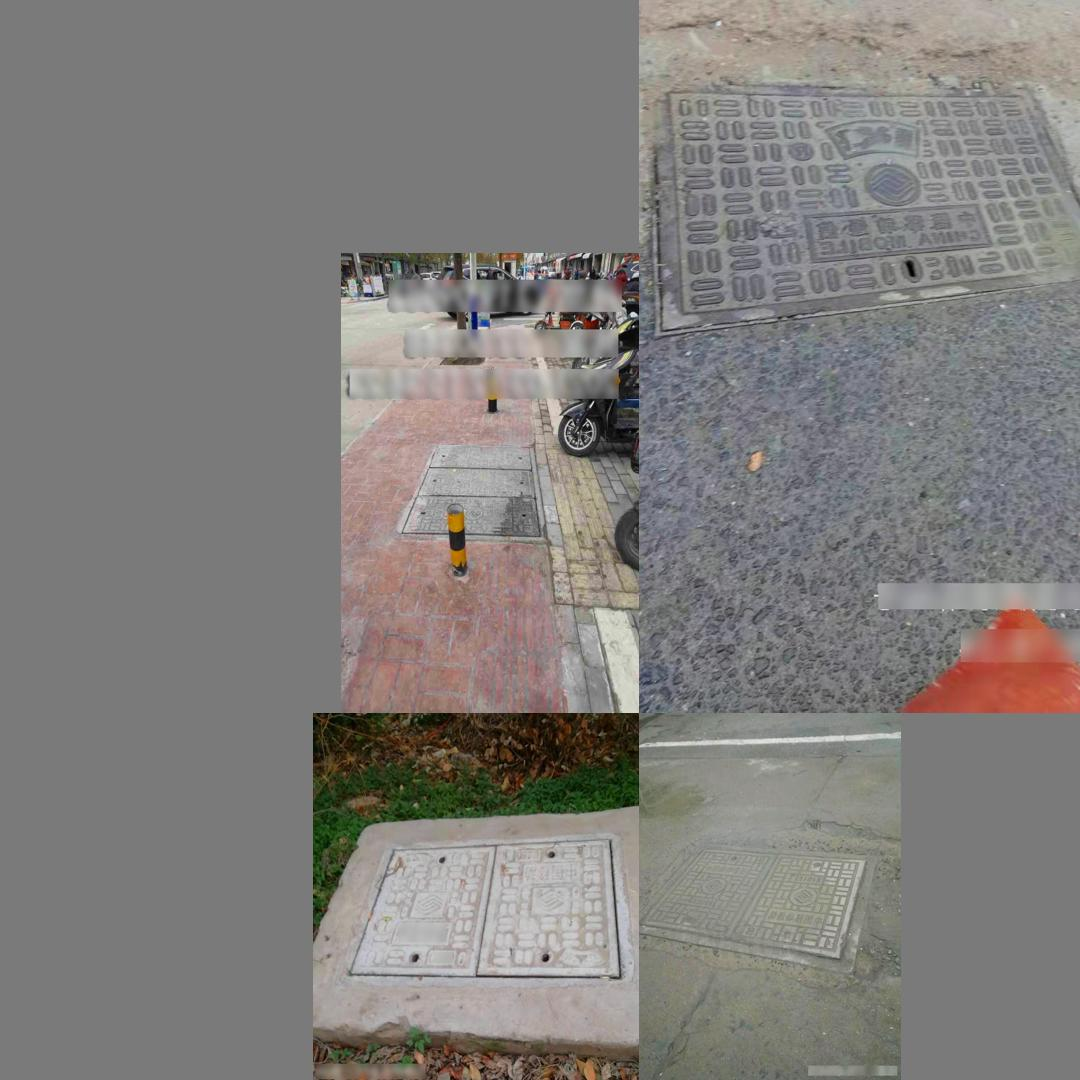good: (649, 83, 1080, 342), (374, 835, 628, 991), (639, 845, 876, 972), (402, 437, 544, 534)
